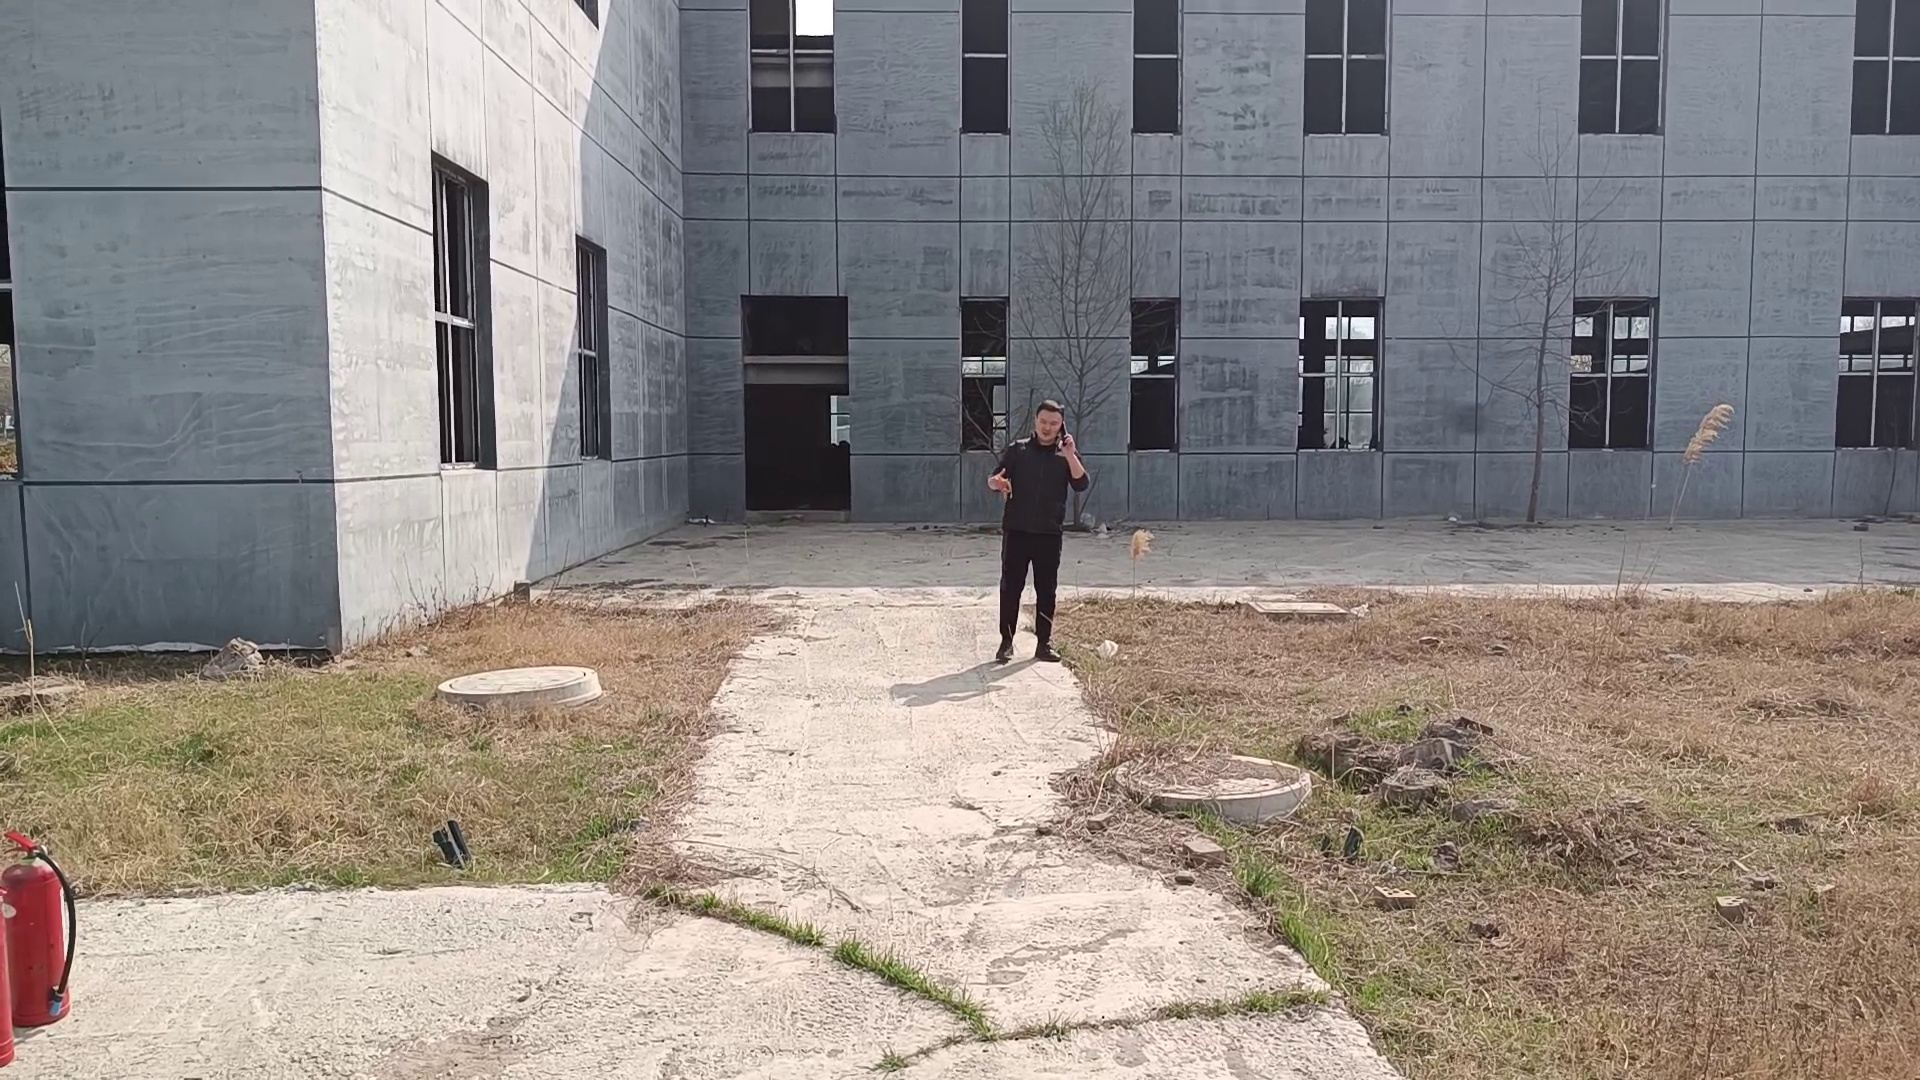phone: (1025, 397, 1075, 458)
